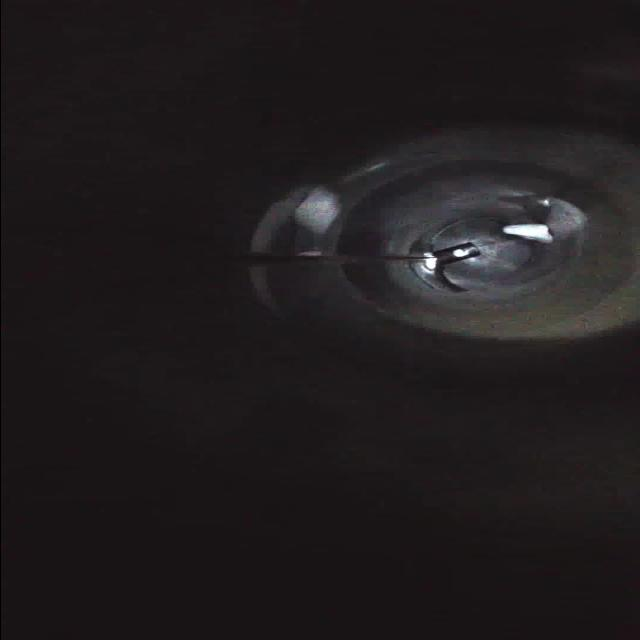impurity: (494, 220, 558, 244)
